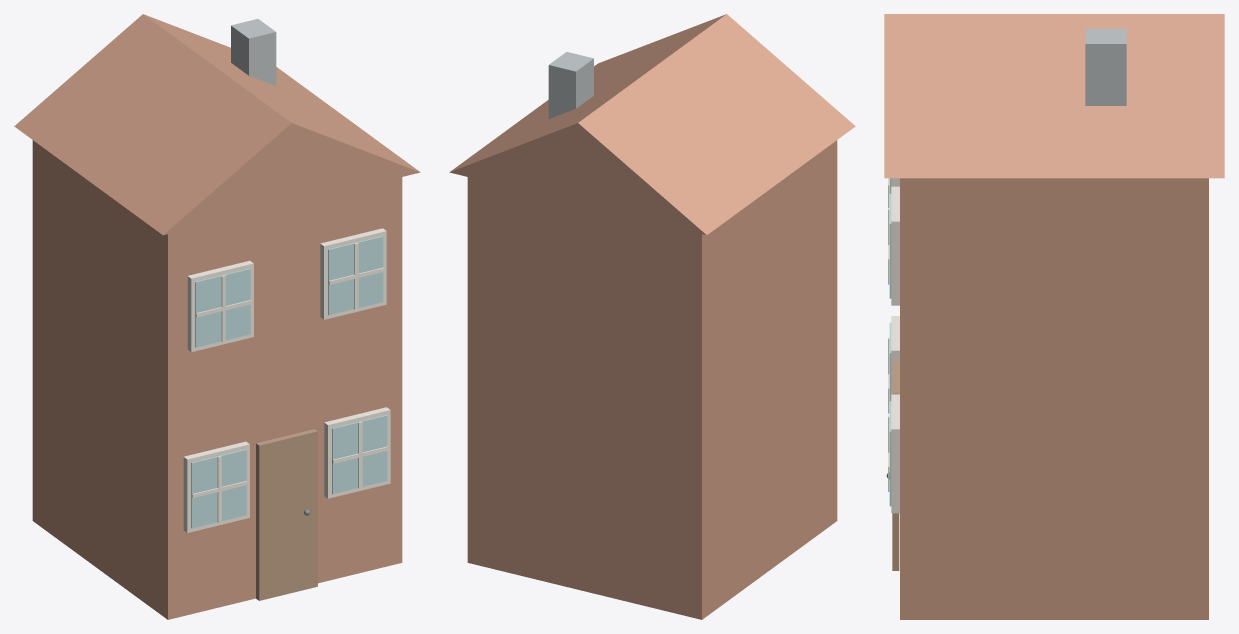
File: townhouse.glb
The picture shows the model from 3 angles, left to right: view 1: azimuth 30°, elevation 25°; view 2: azimuth 150°, elevation 25°; view 3: azimuth 270°, elevation 25°; orthographic projection. The views are drawn at different scales.
Visible parts, largest first — view 1: townhouse_000, townhouse_001, townhouse_002, townhouse_009, townhouse_014, townhouse_018, townhouse_005, townhouse_012, townhouse_004, townhouse_013, townhouse_008, townhouse_017; view 2: townhouse_000, townhouse_001, townhouse_012; view 3: townhouse_000, townhouse_001, townhouse_012, townhouse_008, townhouse_017, townhouse_002, townhouse_004.
Boxes of the visible parts, bbox=[...] form: townhouse_000: bbox=[32, 140, 402, 619]; townhouse_001: bbox=[14, 14, 420, 235]; townhouse_002: bbox=[256, 429, 317, 600]; townhouse_009: bbox=[332, 415, 387, 494]; townhouse_014: bbox=[195, 268, 250, 347]; townhouse_018: bbox=[328, 236, 383, 315]; townhouse_005: bbox=[191, 449, 246, 528]; townhouse_012: bbox=[231, 19, 276, 85]; townhouse_004: bbox=[183, 441, 249, 532]; townhouse_013: bbox=[187, 260, 253, 352]; townhouse_008: bbox=[324, 407, 390, 498]; townhouse_017: bbox=[320, 228, 386, 319]; townhouse_000: bbox=[467, 140, 837, 619]; townhouse_001: bbox=[449, 14, 855, 235]; townhouse_012: bbox=[548, 52, 593, 118]; townhouse_000: bbox=[900, 178, 1208, 619]; townhouse_001: bbox=[884, 14, 1224, 178]; townhouse_012: bbox=[1085, 28, 1126, 105]; townhouse_008: bbox=[891, 394, 899, 513]; townhouse_017: bbox=[891, 186, 899, 305]; townhouse_002: bbox=[892, 361, 899, 570]; townhouse_004: bbox=[891, 316, 899, 394].
Bounding box in the file's own units: 3.3 × 5.9 × 3.3.
